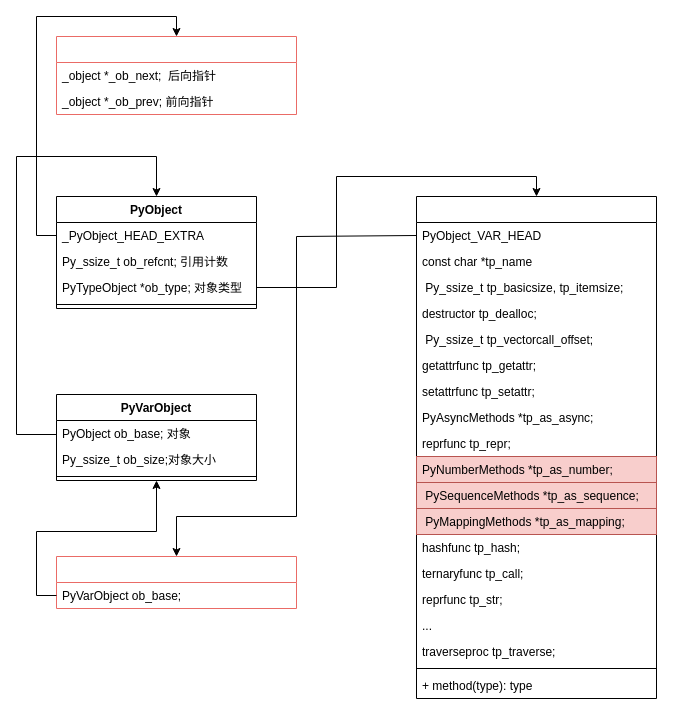
This 673x715 diagram has some shape labels left out. Here are the shapes that lost their labels. From the top down, the box of each, then its label:
(56, 36, 296, 114): _PyObject_HEAD_EXTRA 对象双链表
(416, 196, 656, 698): PyTypeObject
(56, 556, 296, 608): PyObject_VAR_HEAD 可变对象头
